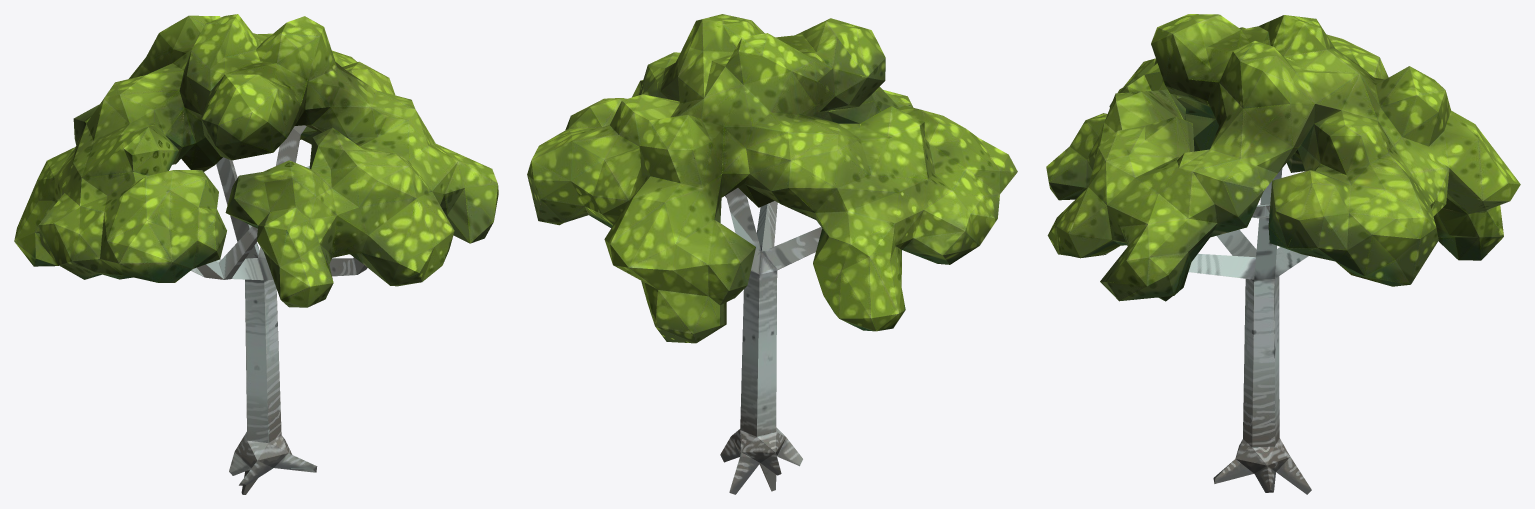
The picture shows the model from 3 angles, left to right: view 1: azimuth 30°, elevation 25°; view 2: azimuth 150°, elevation 25°; view 3: azimuth 270°, elevation 25°; orthographic projection.
Parts seen in each view (by area): view 1: Icosphere.000_mat.tree-laurel_0; view 2: Icosphere.000_mat.tree-laurel_0; view 3: Icosphere.000_mat.tree-laurel_0.
Part boxes in pixels (box(x1,y1,x2,y2)): Icosphere.000_mat.tree-laurel_0: box(14, 14, 498, 494); Icosphere.000_mat.tree-laurel_0: box(527, 14, 1017, 494); Icosphere.000_mat.tree-laurel_0: box(1046, 14, 1520, 494).
Size of the model in its own units: 4.54 by 5.11 by 4.63.
1 material, 1 textured.
